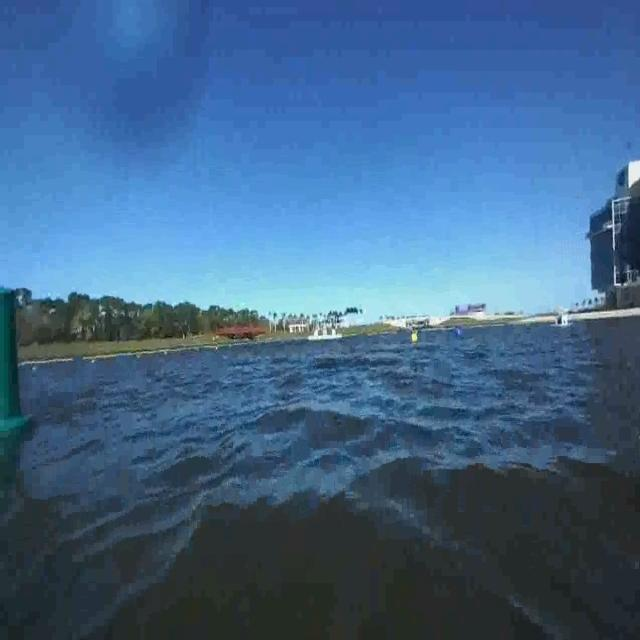green-column-buoy: (0, 284, 33, 439)
yellow-buoy: (412, 332, 420, 347)
